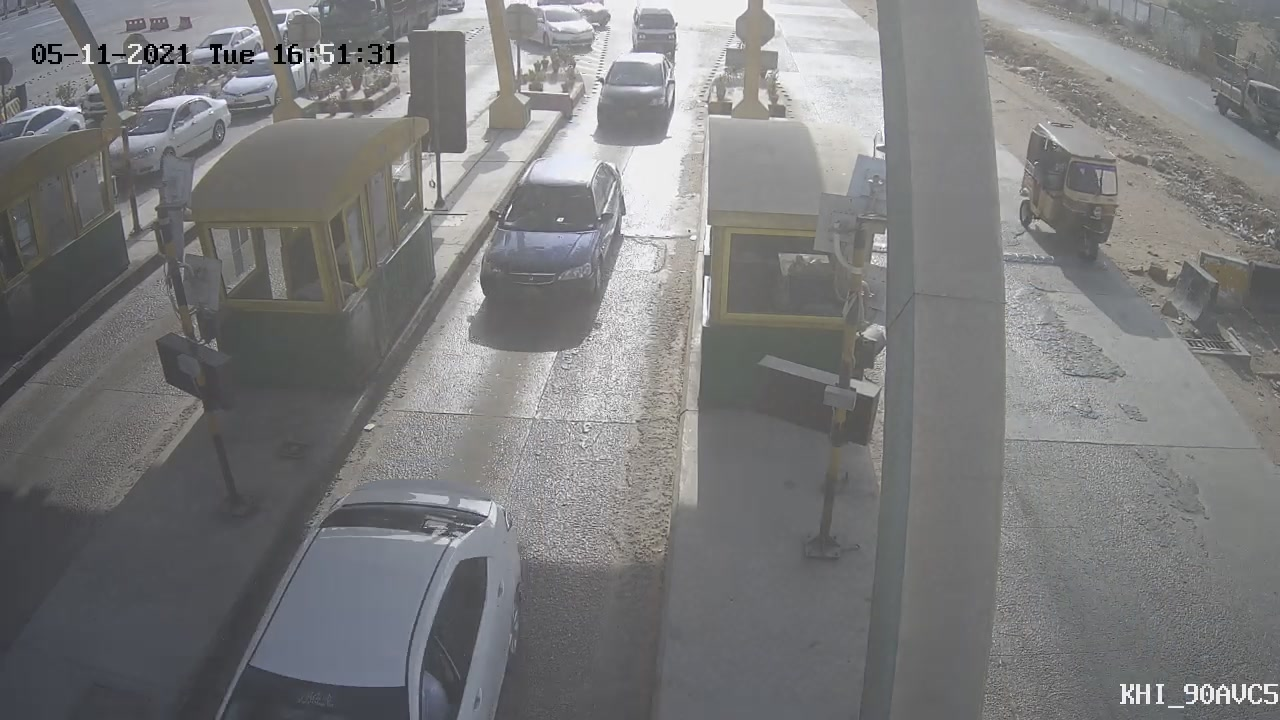F1: (459, 142, 643, 338), (582, 43, 686, 143)
